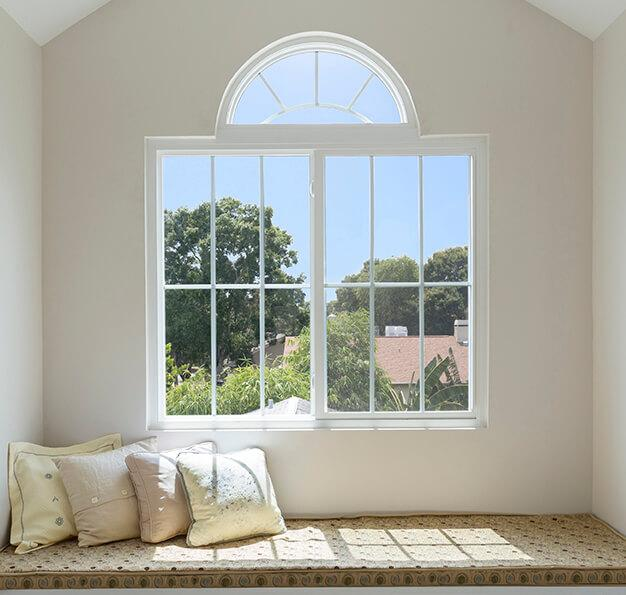Window: (139, 32, 488, 430)
